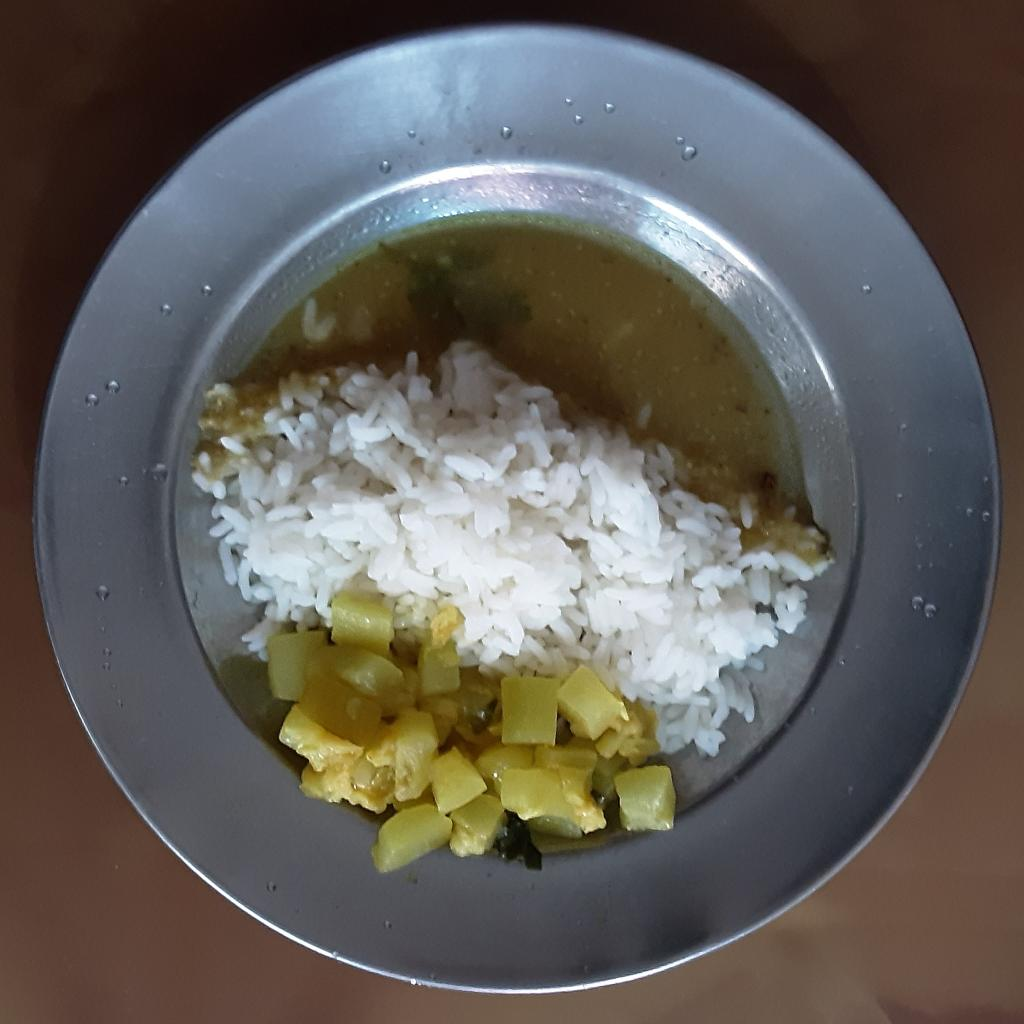daal: (201, 223, 787, 500)
lau: (268, 589, 674, 876)
rice: (190, 344, 827, 755)
